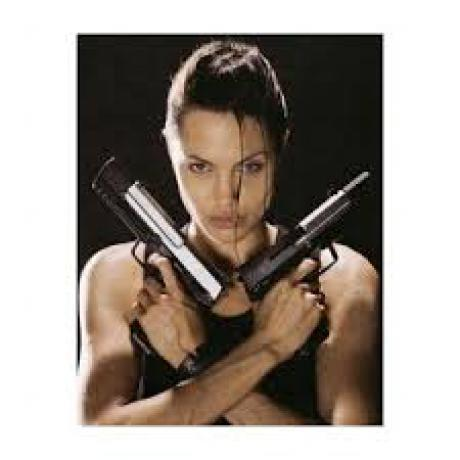Guns: (92, 166, 228, 360), (236, 167, 375, 342)
